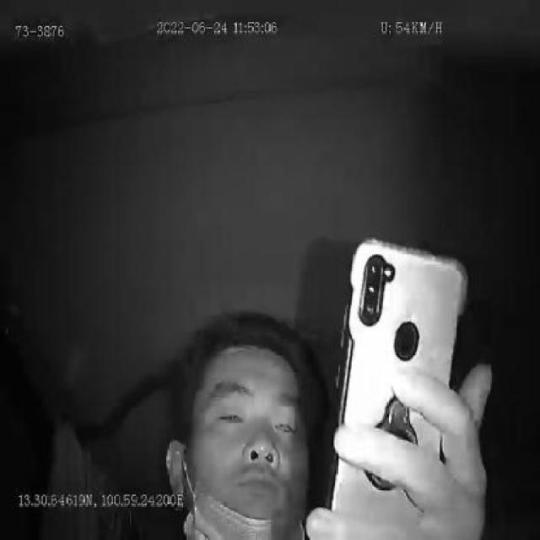phone: (328, 233, 468, 540)
